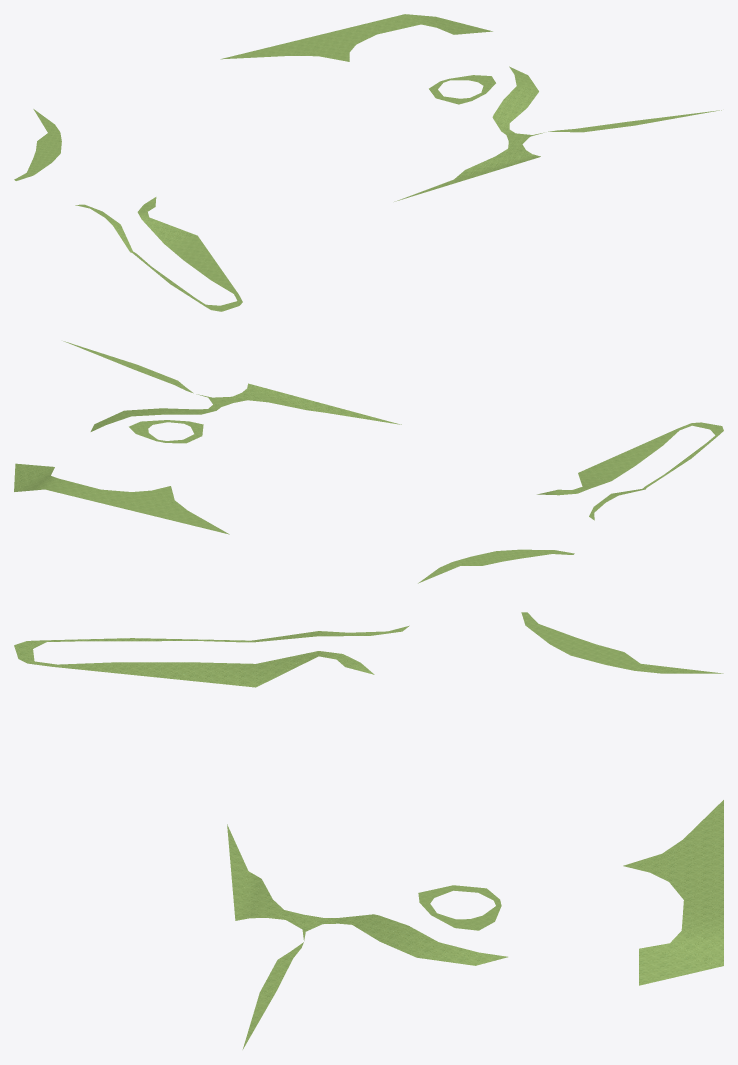
Rendered from kd_stage_135d18_4_126_bounded.glb.
The picture shows the model from 3 angles, top to bottom: view 1: azimuth 30°, elevation 25°; view 2: azimuth 150°, elevation 25°; view 3: azimuth 270°, elevation 25°; orthographic projection. The views are drawn at different scales.
Parts seen in each view (by area): view 1: kd_stage_135d18_4_126_bounded; view 2: kd_stage_135d18_4_126_bounded; view 3: kd_stage_135d18_4_126_bounded.
Part boxes in pixels (x1,y1,x2,y2): kd_stage_135d18_4_126_bounded: [14, 14, 721, 311]; kd_stage_135d18_4_126_bounded: [14, 341, 723, 583]; kd_stage_135d18_4_126_bounded: [14, 612, 723, 1049].
Bounding box in the file's own units: 16.31 × 0.431 × 11.4.
1 material, 1 textured.
